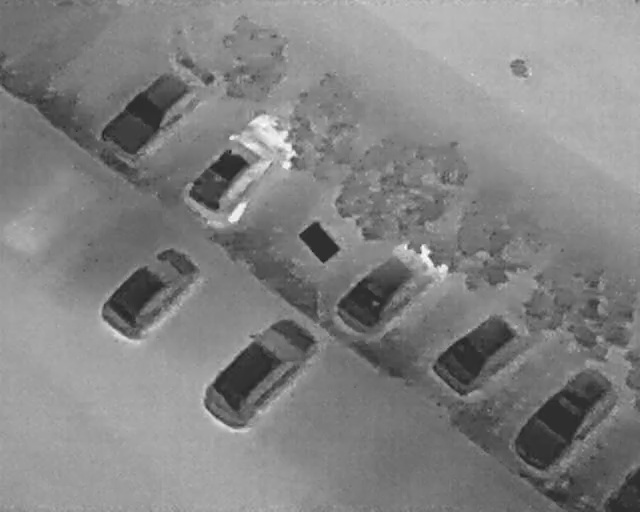Car: (187, 299, 333, 444), (171, 94, 313, 242), (497, 352, 633, 487), (325, 219, 462, 350), (90, 41, 223, 174), (88, 228, 213, 353), (422, 295, 544, 405)
